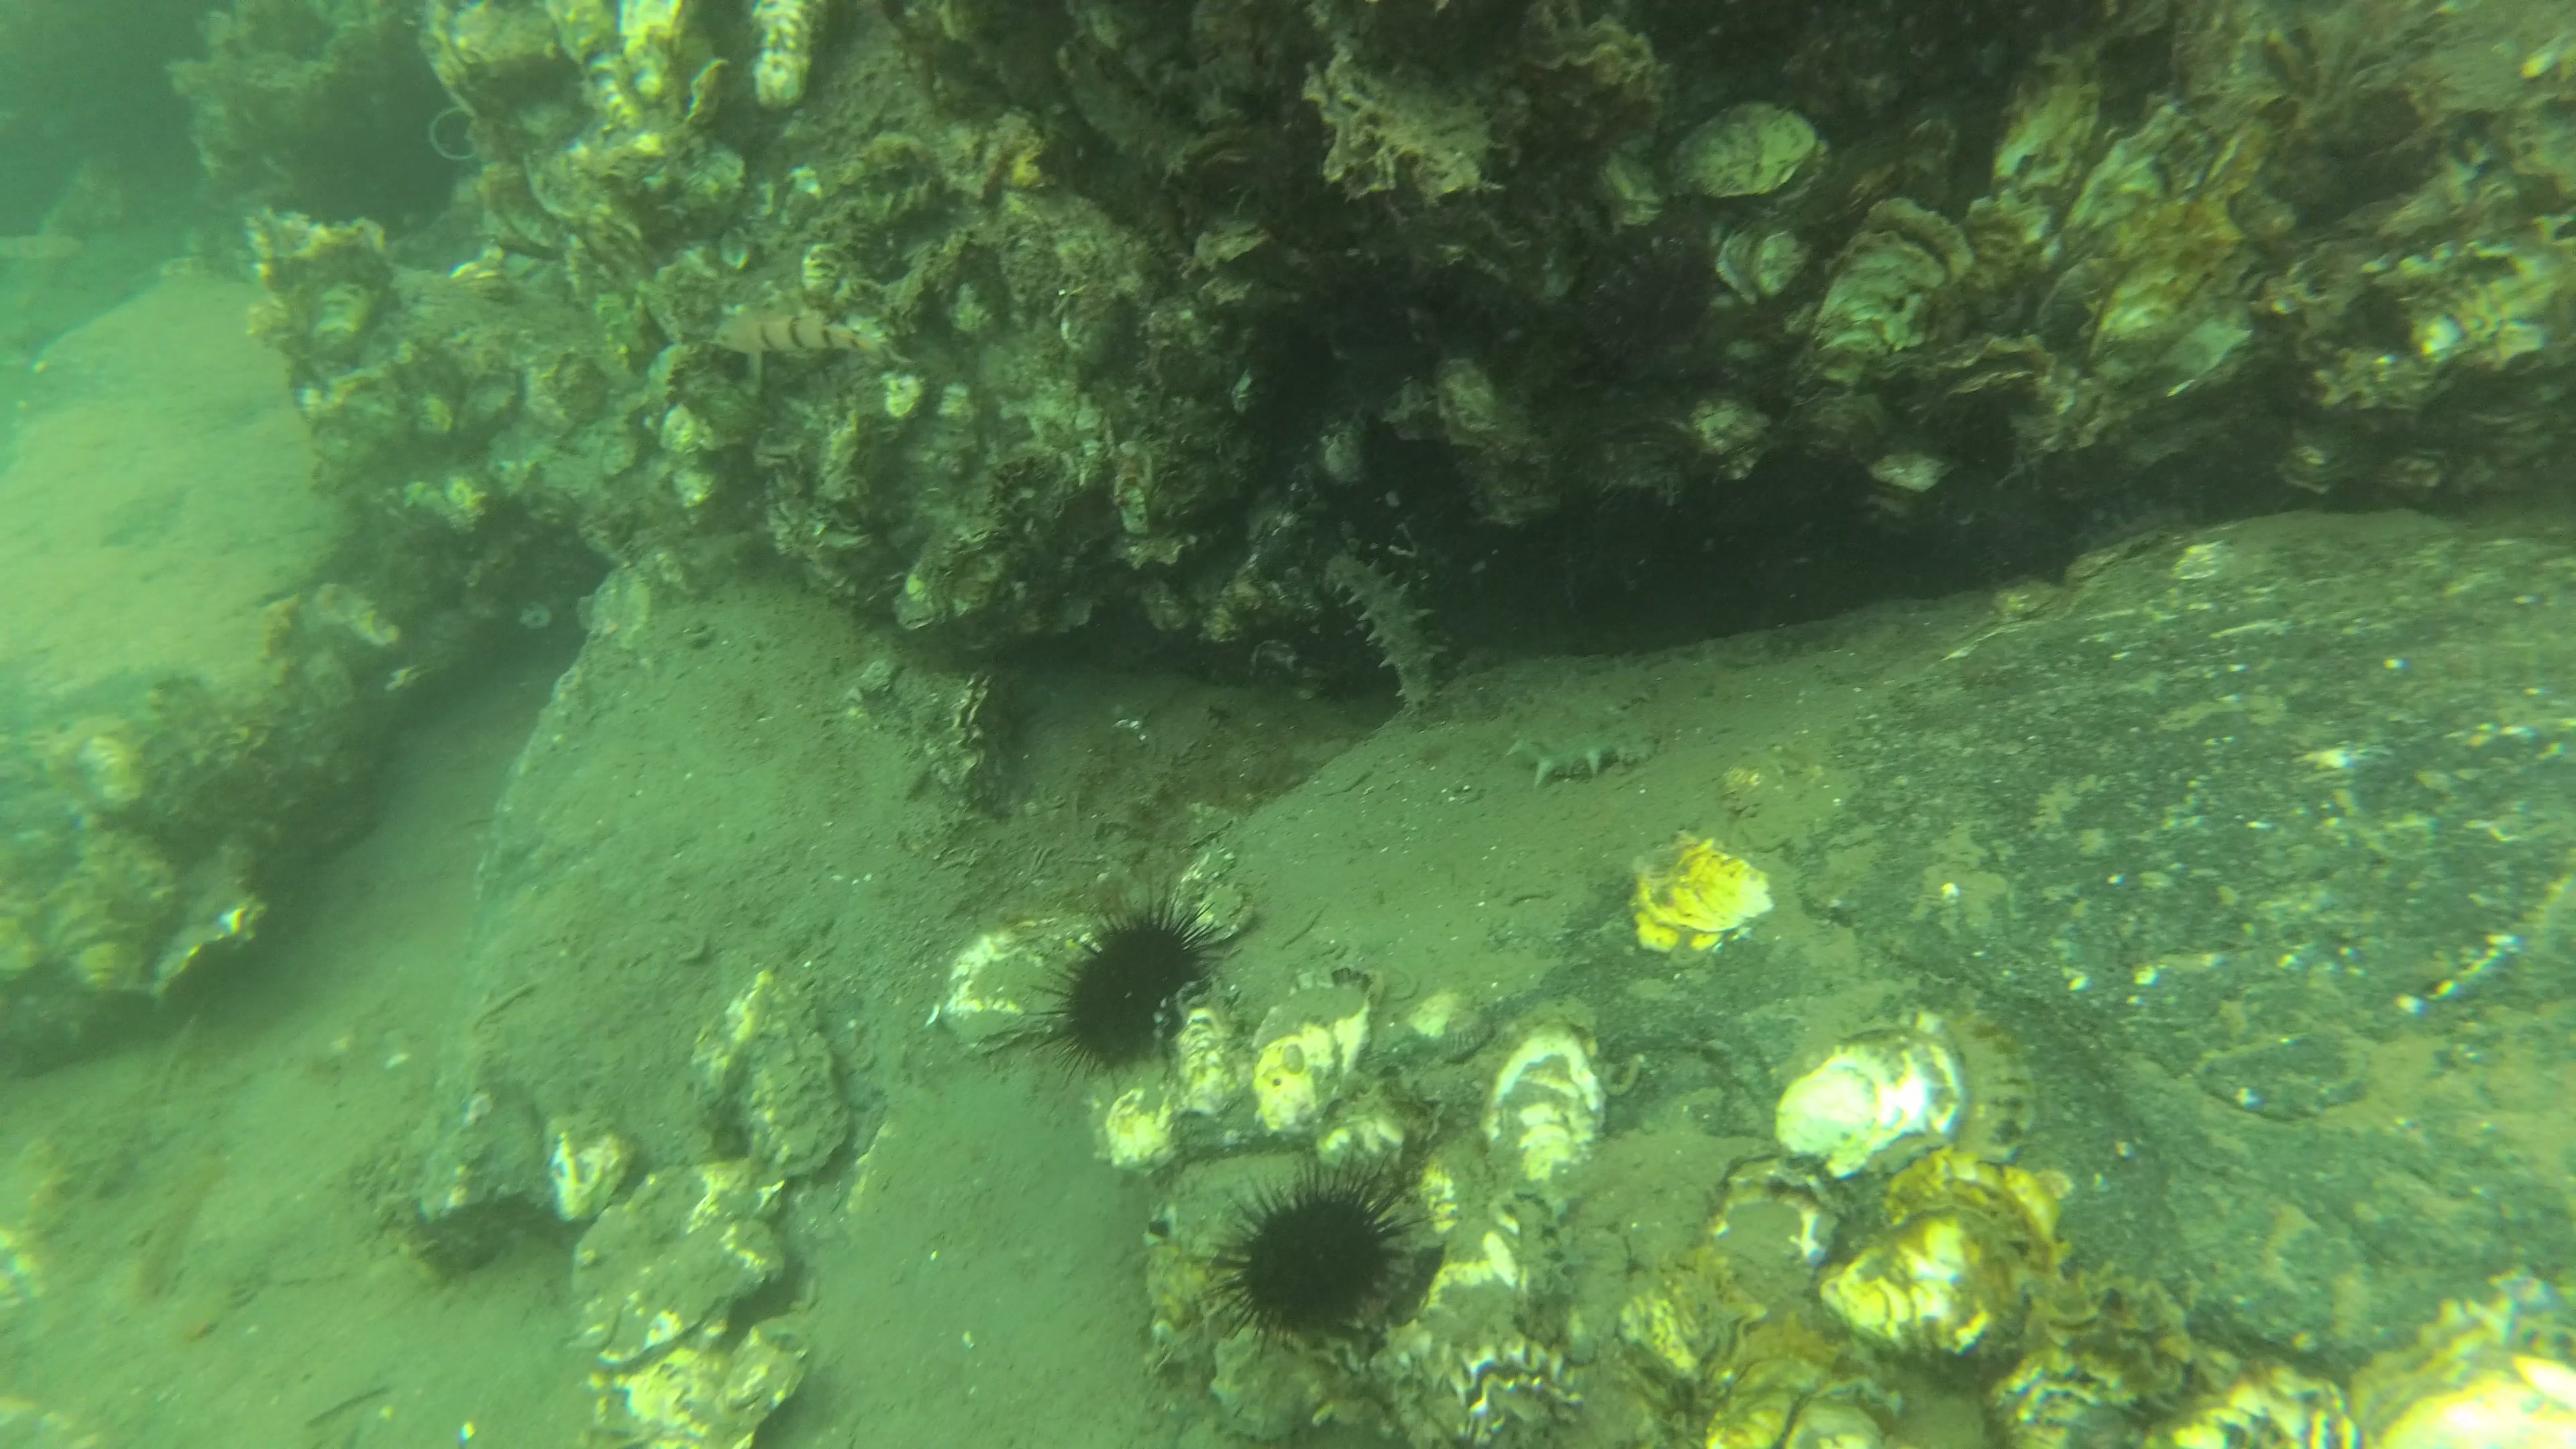echinus: (1184, 1141, 1444, 1375), (1021, 883, 1242, 1085)
holothurian: (1318, 540, 1454, 722), (1499, 713, 1670, 789)
